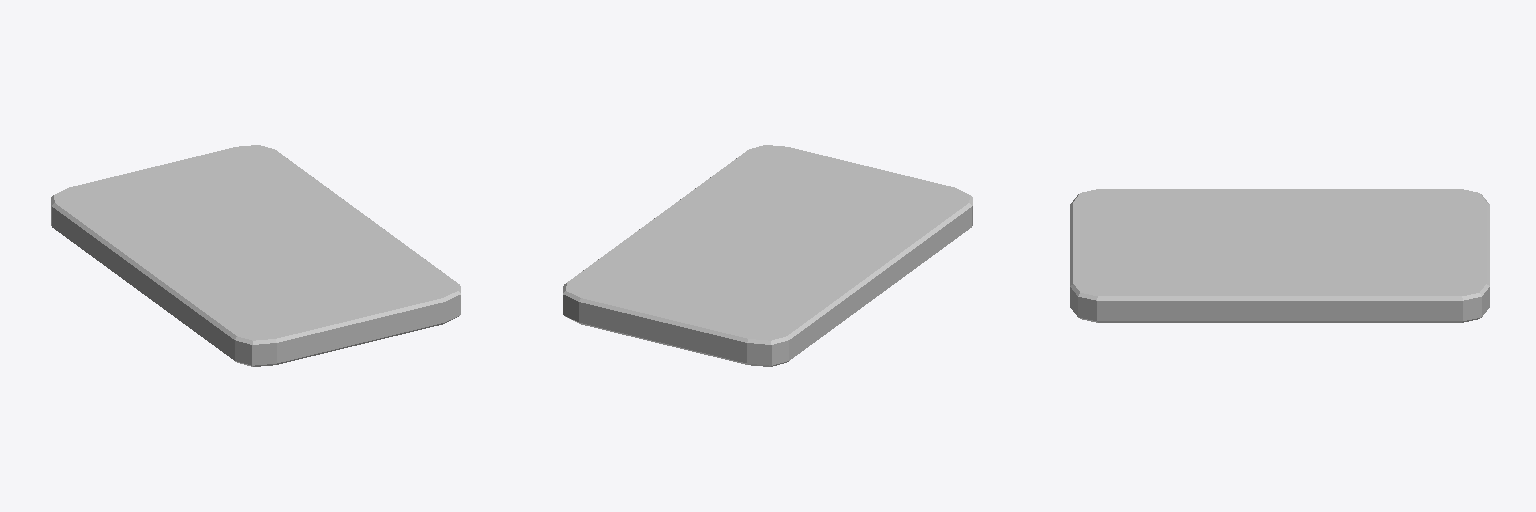
The model's file is cutting_board.obj.
The picture shows the model from 3 angles: view 1: azimuth 30°, elevation 25°; view 2: azimuth 150°, elevation 25°; view 3: azimuth 270°, elevation 25°; orthographic projection.
Visible parts, largest first — view 1: board_cutting_board.001_Cube.117; view 2: board_cutting_board.001_Cube.117; view 3: board_cutting_board.001_Cube.117.
Part boxes in pixels (bbox=[...]): board_cutting_board.001_Cube.117: bbox=[51, 145, 460, 366]; board_cutting_board.001_Cube.117: bbox=[563, 145, 972, 366]; board_cutting_board.001_Cube.117: bbox=[1070, 189, 1489, 322].
Size of the model in its own units: 3.07 by 0.3423 by 4.93.